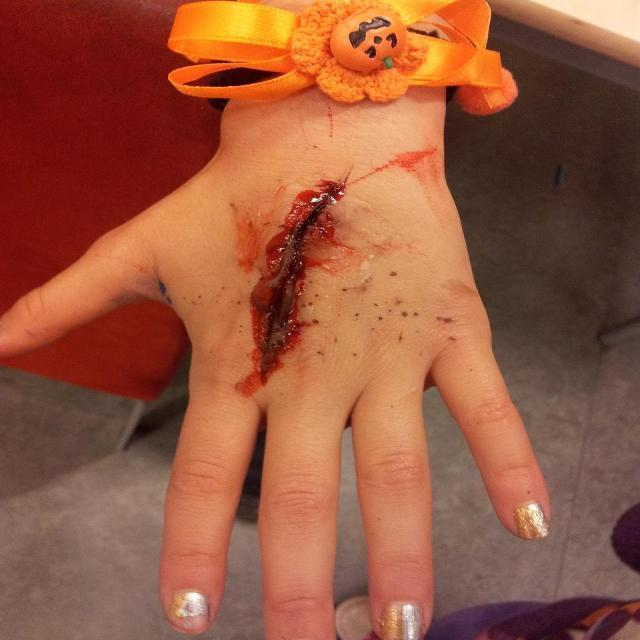flood: (245, 182, 343, 384)
